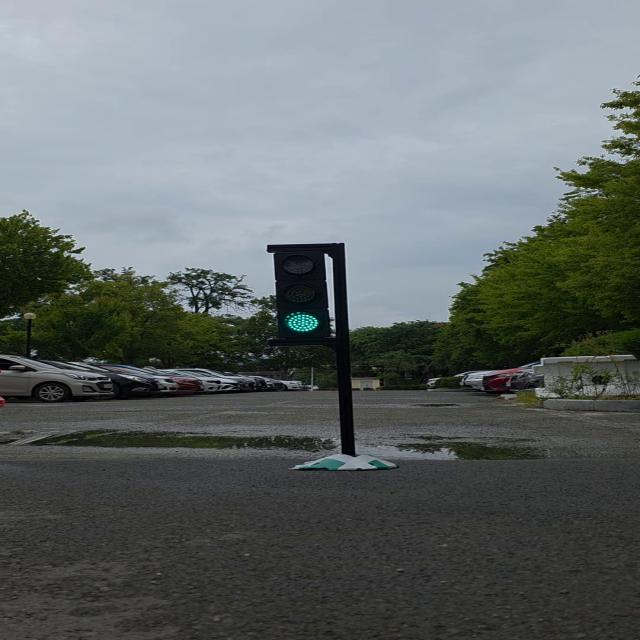green: (271, 246, 342, 342)
